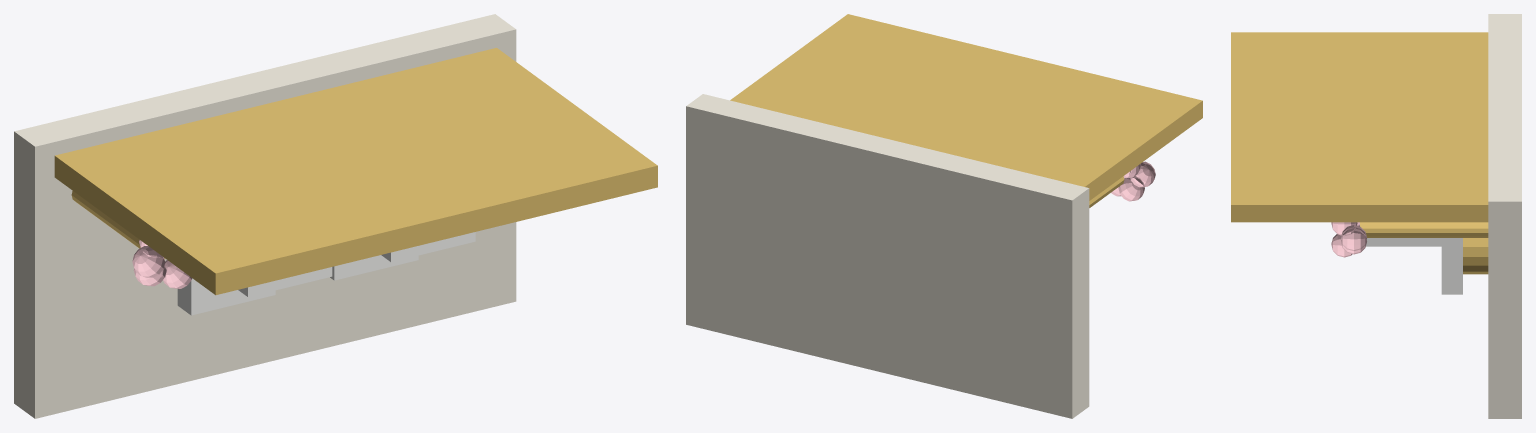
Rendered from bride_groom_stage.glb.
The picture shows the model from 3 angles, left to right: view 1: azimuth 30°, elevation 25°; view 2: azimuth 150°, elevation 25°; view 3: azimuth 270°, elevation 25°; orthographic projection. The views are drawn at different scales.
Parts seen in each view (by area): view 1: backdrop, platform, chair_seat (×2), chair_back (×2), flower, floral_stand; view 2: platform, backdrop; view 3: backdrop, platform, floral_stand, chair_seat, chair_base, chair_back, flower.
Part boxes in pixels (x1,y1,x2,y2): backdrop: (54, 48, 657, 295); platform: (14, 14, 516, 418); chair_seat (×2): (177, 255, 418, 315); chair_back (×2): (238, 232, 475, 296); flower: (132, 246, 165, 277); floral_stand: (71, 191, 165, 258); platform: (686, 94, 1089, 418); backdrop: (730, 14, 1202, 200); backdrop: (1231, 32, 1488, 222); platform: (1488, 14, 1521, 418); floral_stand: (1360, 222, 1488, 237); chair_seat: (1441, 238, 1462, 294); chair_base: (1463, 238, 1488, 274); chair_back: (1366, 238, 1452, 246); flower: (1341, 225, 1366, 250).
Size of the model in its own units: 3.7 by 2 by 2.43.
